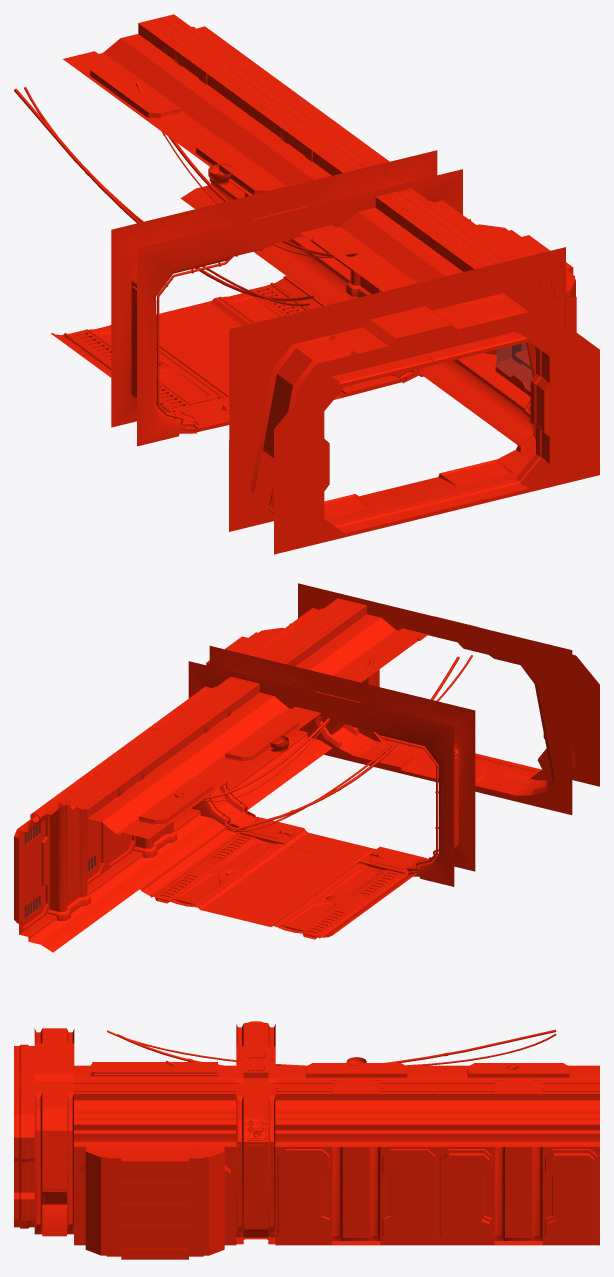
Rendered from Space_Ship_1_Interior_corridor_v1.FBX.
The picture shows the model from 3 angles, top to bottom: view 1: azimuth 30°, elevation 25°; view 2: azimuth 150°, elevation 25°; view 3: azimuth 270°, elevation 25°; orthographic projection. The views are drawn at different scales.
Visible parts, largest first — view 1: Corridor_door_segment_v1, Corridor_split_segment_v1, Corridor_wall_v3, Corridor_wall_v2, Corridor_wall_v1, Corridor_floor_v1, Corridor_ceiling_wires_v2, Corridor_wall_glass_v1, Corridor_ceiling_wires_v1; view 2: Corridor_split_segment_v1, Corridor_wall_v2, Corridor_door_segment_v1, Corridor_floor_v1, Corridor_wall_v1, Corridor_wall_v3, Corridor_ceiling_wires_v2, Corridor_ceiling_wires_v1; view 3: Corridor_wall_v3, Corridor_wall_v1, Corridor_wall_v2, Corridor_door_segment_v1, Corridor_split_segment_v1, Corridor_ceiling_wires_v2.
Boxes of the visible parts, box(x1,y1,x2,y2) form: Corridor_door_segment_v1: box(229, 247, 599, 554); Corridor_split_segment_v1: box(111, 150, 462, 446); Corridor_wall_v3: box(300, 188, 576, 444); Corridor_wall_v2: box(63, 14, 327, 275); Corridor_wall_v1: box(169, 92, 404, 305); Corridor_floor_v1: box(51, 276, 326, 411); Corridor_ceiling_wires_v2: box(14, 87, 314, 306); Corridor_wall_glass_v1: box(496, 343, 532, 390); Corridor_ceiling_wires_v1: box(135, 82, 357, 257); Corridor_split_segment_v1: box(188, 646, 475, 886); Corridor_wall_v2: box(14, 739, 234, 952); Corridor_door_segment_v1: box(298, 583, 599, 814); Corridor_floor_v1: box(139, 826, 417, 939); Corridor_wall_v1: box(105, 676, 320, 889); Corridor_wall_v3: box(206, 598, 427, 809); Corridor_ceiling_wires_v2: box(225, 655, 472, 831); Corridor_ceiling_wires_v1: box(174, 660, 373, 801); Corridor_wall_v3: box(74, 1062, 236, 1259); Corridor_wall_v1: box(275, 1063, 437, 1245); Corridor_wall_v2: box(437, 1063, 599, 1245); Corridor_door_segment_v1: box(14, 1028, 74, 1236); Corridor_split_segment_v1: box(236, 1021, 275, 1244); Corridor_ceiling_wires_v2: box(107, 1029, 556, 1065).
Bounding box in the file's own units: 9.11 × 4.7 × 16.08.
